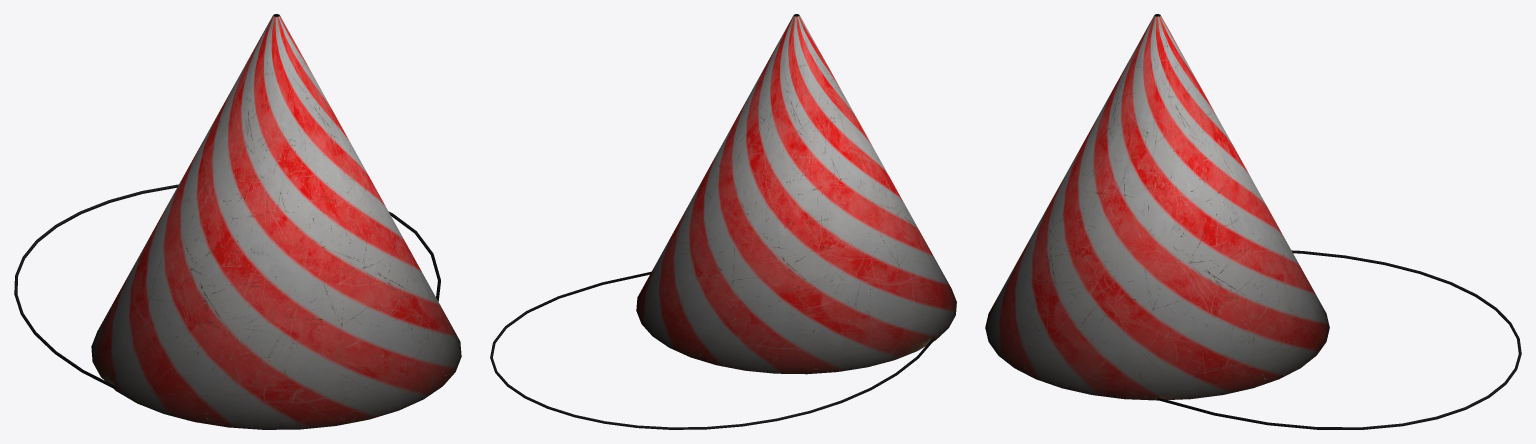
The model's file is party.glb.
3 renders of one model, left to right at view 1: azimuth 30°, elevation 25°; view 2: azimuth 150°, elevation 25°; view 3: azimuth 270°, elevation 25°, orthographic. The views are drawn at different scales.
Parts seen in each view (by area): view 1: NurbsPath_M_PartyHat_0; view 2: NurbsPath_M_PartyHat_0; view 3: NurbsPath_M_PartyHat_0.
Boxes of the visible parts, left/top/right/bottom form: NurbsPath_M_PartyHat_0: left=14, top=14, right=461, bottom=429; NurbsPath_M_PartyHat_0: left=490, top=14, right=956, bottom=429; NurbsPath_M_PartyHat_0: left=985, top=14, right=1521, bottom=429.
Bounding box in the file's own units: 1.19 × 0.9615 × 1.5.
1 material, 1 textured.
